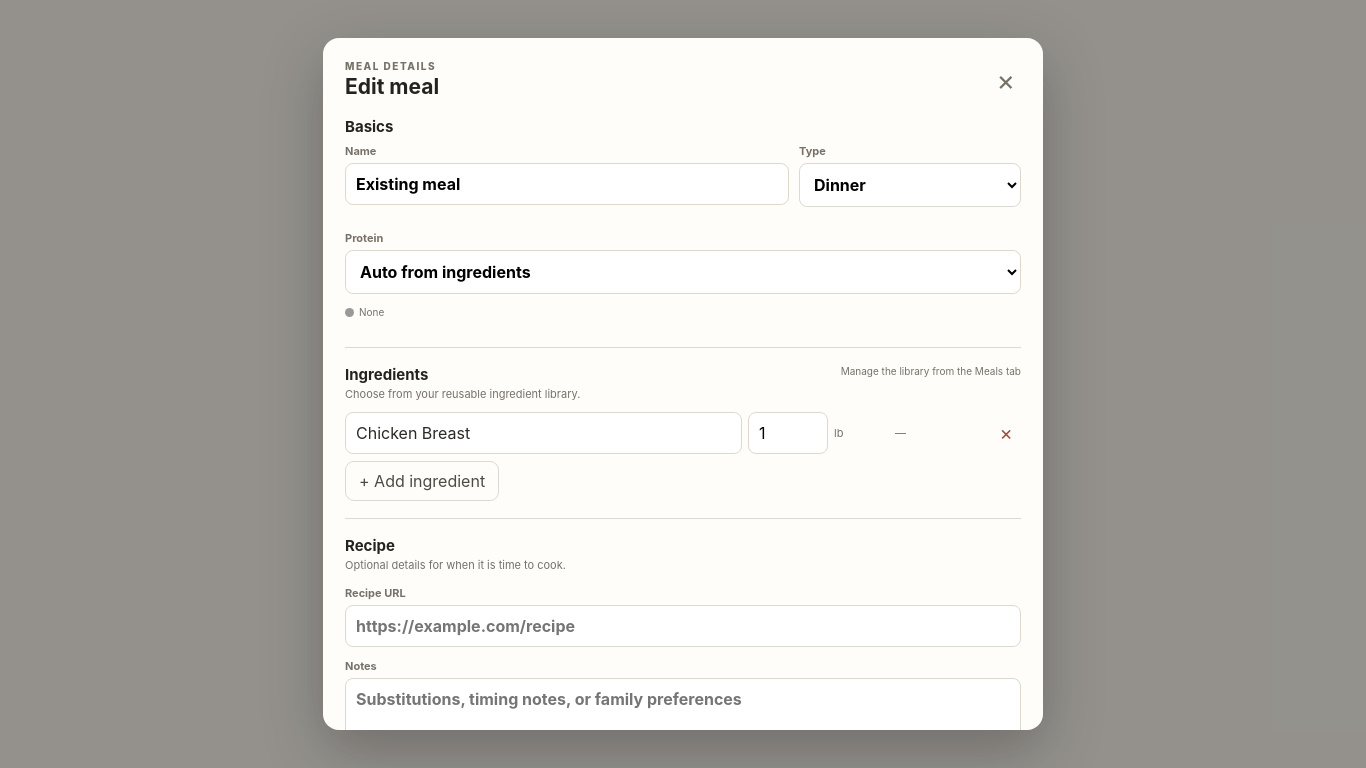
MealForm ingredient picker › keeps the first typed character when replacing an existing ingredient
The width and height of the screenshot is (1366, 768).
Replace the text in the dropdown named "Ingredient 1" with "l" at coordinates (544, 433), box x1=345 y1=412 x2=742 y2=454
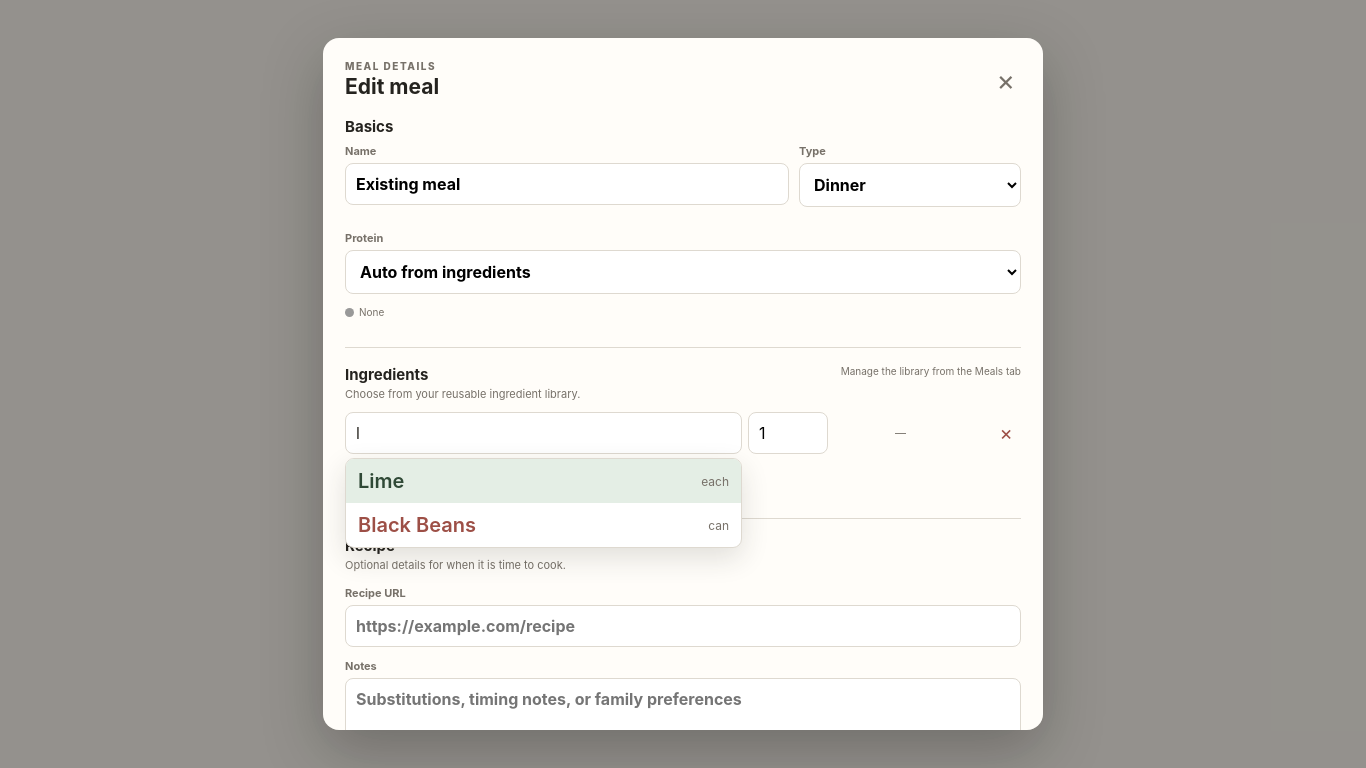
Result: the option "Lime each" is shown at x1=346 y1=459 x2=741 y2=503
